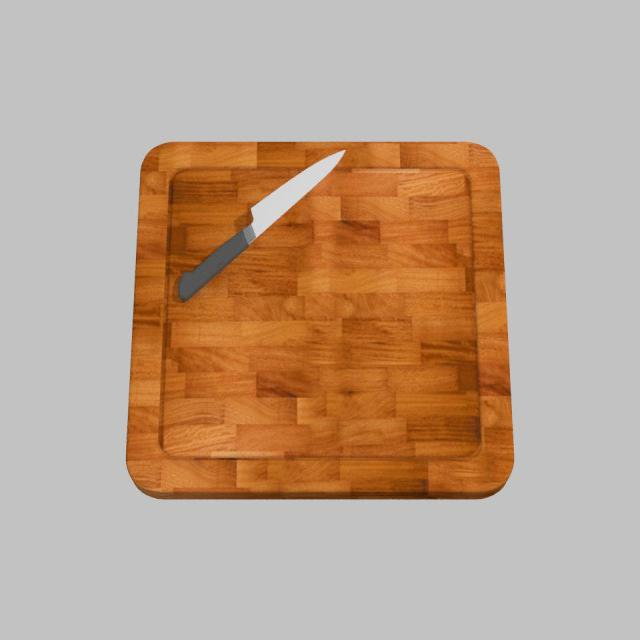knife: (179, 230, 249, 302)
